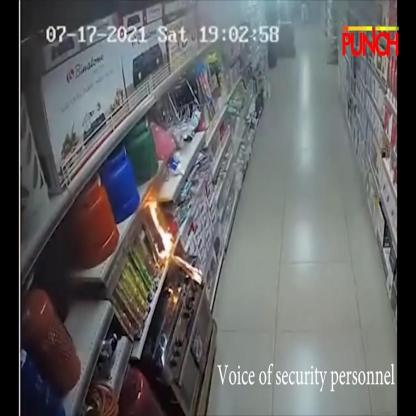fire: (143, 197, 173, 257), (168, 284, 181, 303)
